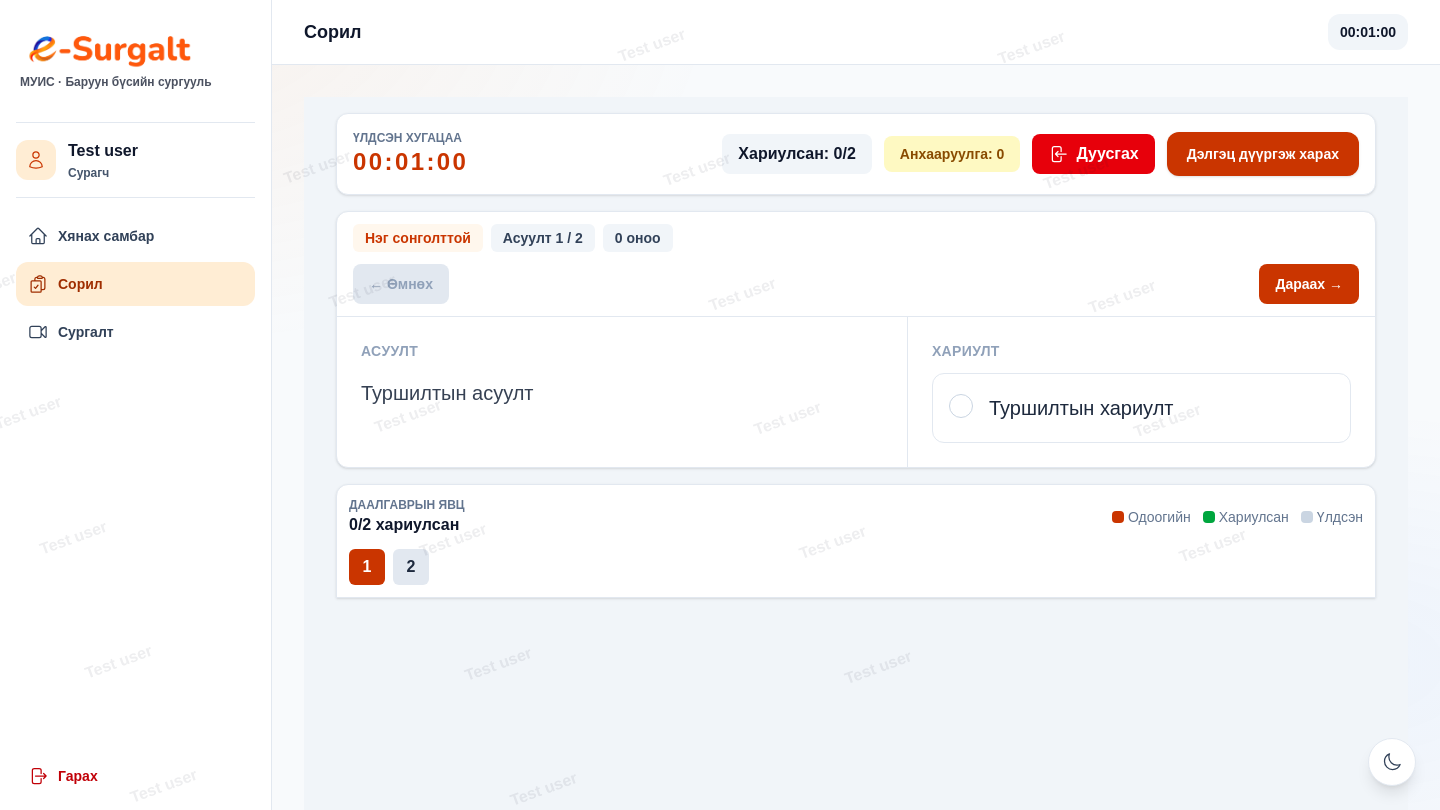
Test case: recovers an invalid saved question order and waits for an answer before finishing
Click the button "Туршилтын хариулт".
click(1141, 408)  # box [932, 373, 1351, 443]
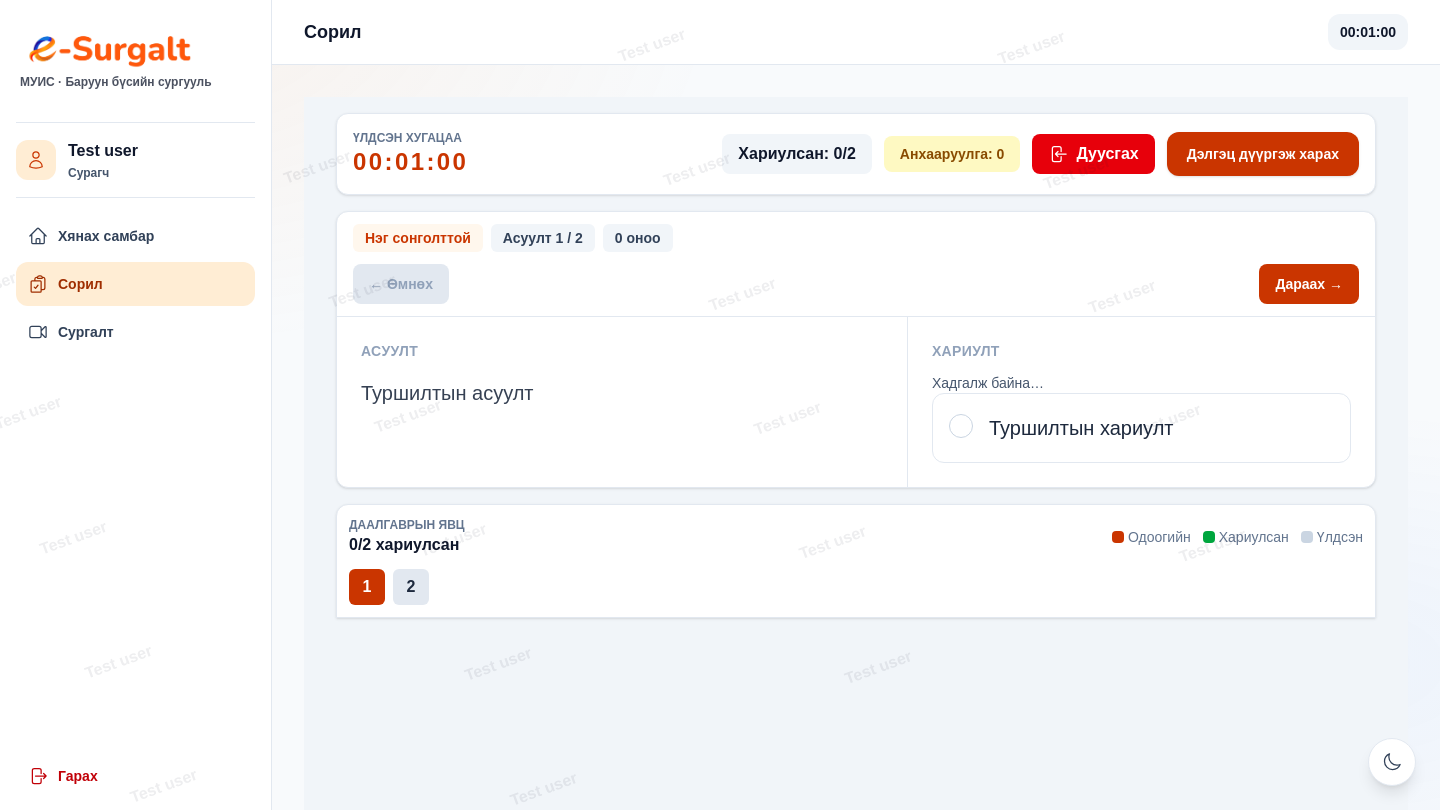
Click the button "Дуусгах".
click(1094, 154)  # box [1032, 134, 1155, 174]
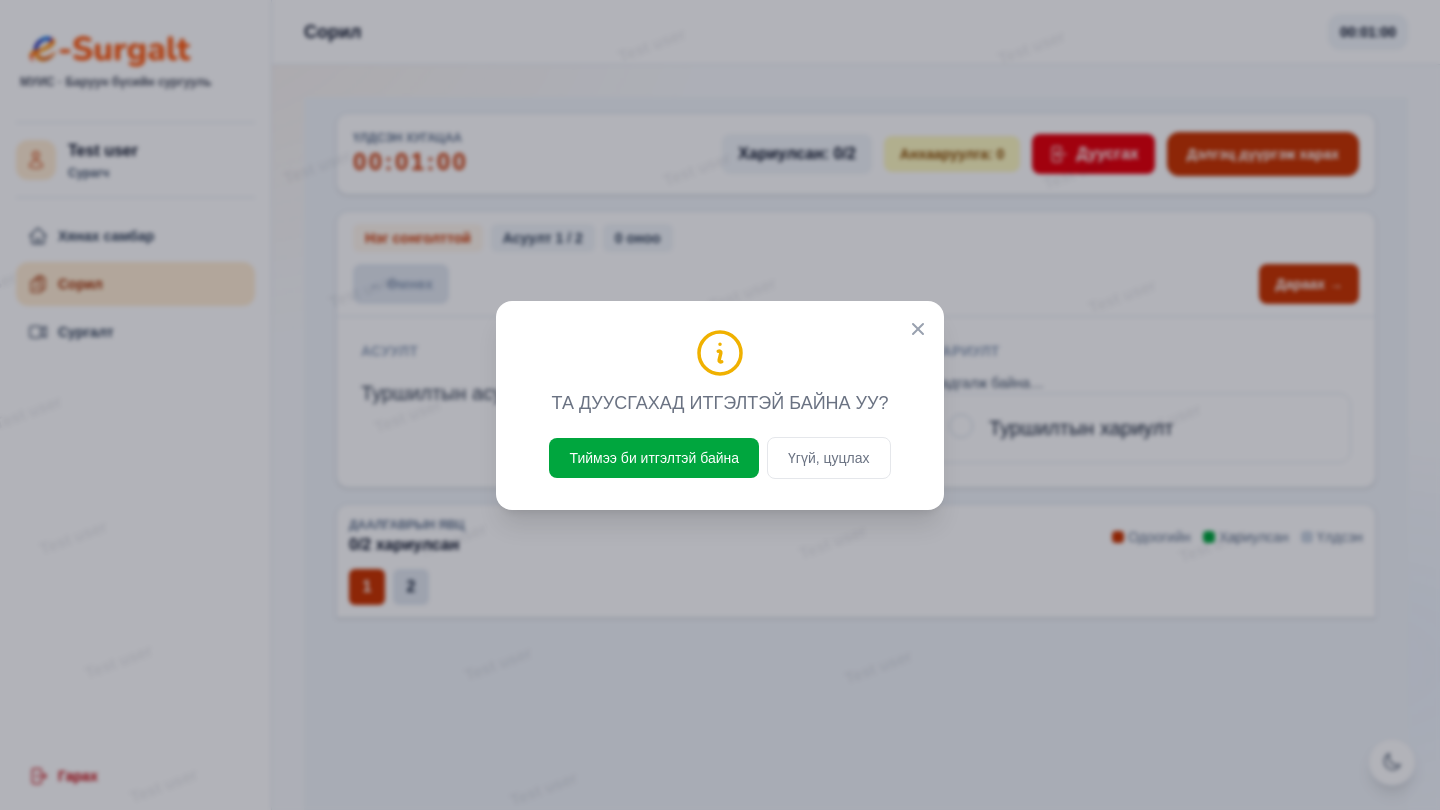
Click the button "Тиймээ би итгэлтэй байна".
click(654, 458)  # box [550, 438, 759, 478]
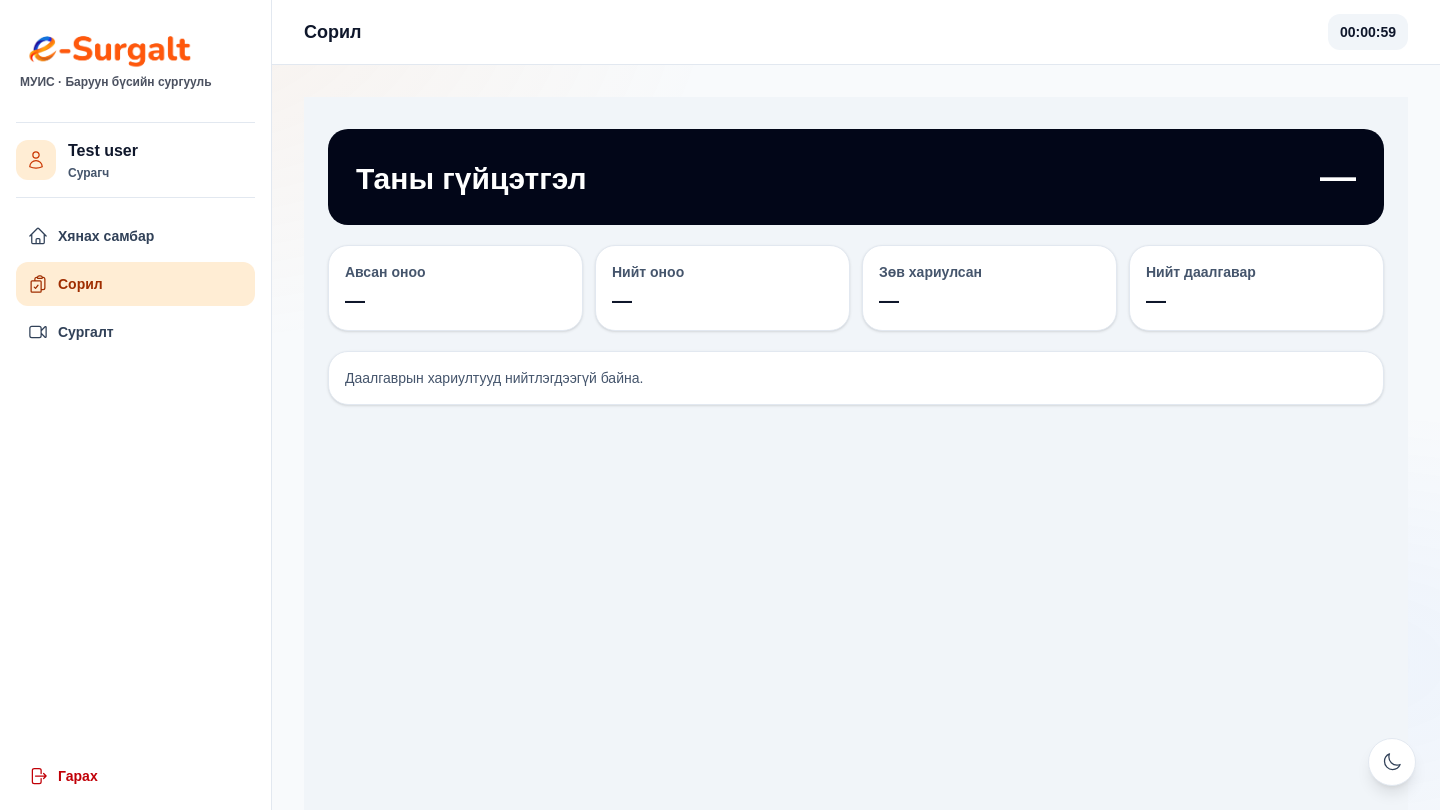
Expected: the heading "Таны гүйцэтгэл" is shown, [356, 161, 587, 197]
Expected: the text "Даалгаврын хариултууд нийтлэгдээгүй байна." is shown, [328, 351, 1384, 405]
